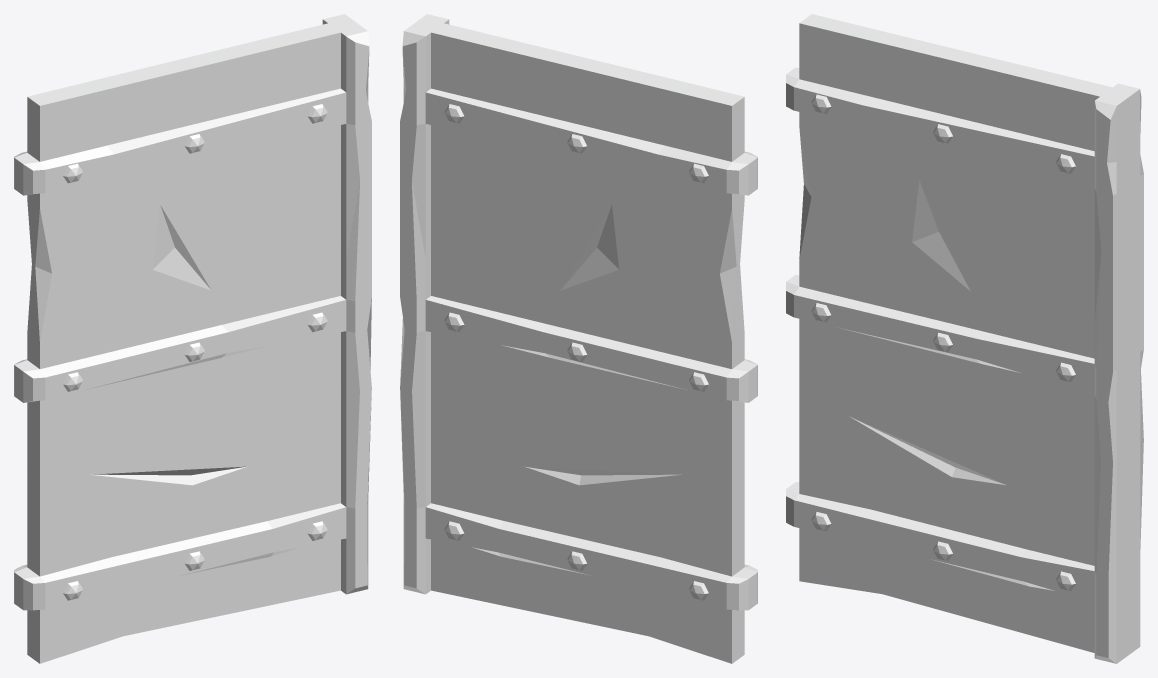
File: Door 3.fbx
3 renders of one model, left to right at view 1: azimuth 30°, elevation 25°; view 2: azimuth 150°, elevation 25°; view 3: azimuth 330°, elevation 25°, orthographic.
Parts seen in each view (by area): view 1: Door 3; view 2: Door 3; view 3: Door 3.
Boxes of the visible parts, left/top/right/bottom form: Door 3: left=14, top=14, right=371, bottom=663; Door 3: left=400, top=14, right=757, bottom=663; Door 3: left=786, top=14, right=1143, bottom=663.
Size of the model in its own units: 436 by 689 by 69.07.
Materials: 1 (1 with a texture image).
